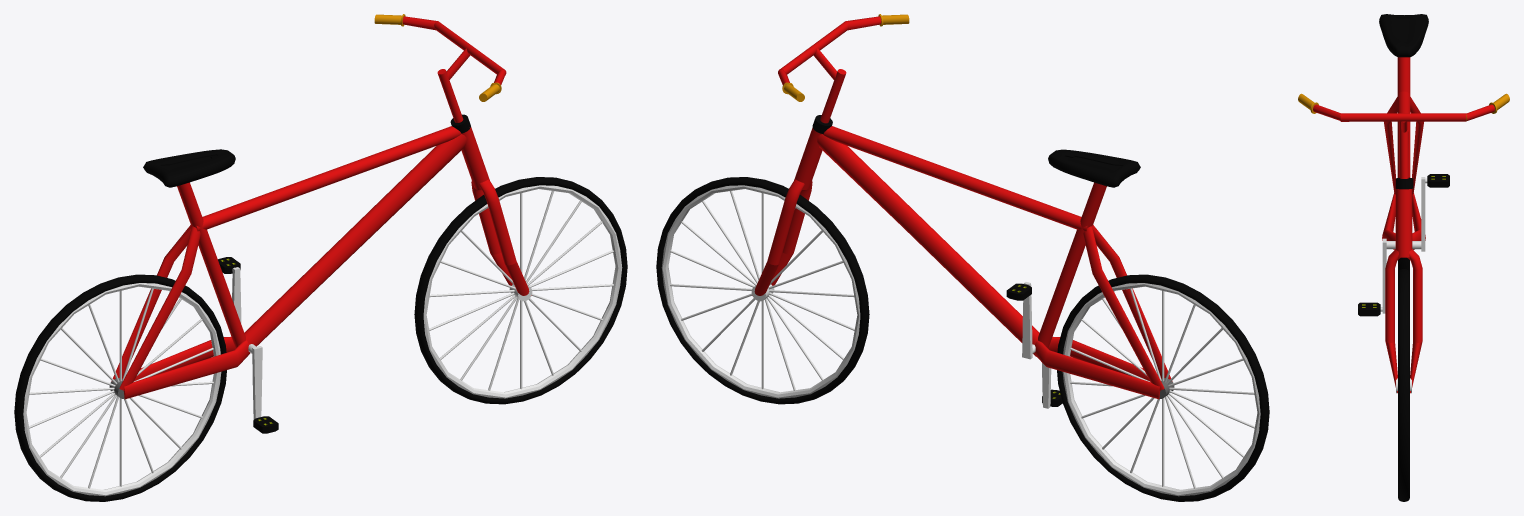
The model's file is bisikletfbxson.FBX.
3 views of the same model, side by side, from view 1: azimuth 30°, elevation 25°; view 2: azimuth 150°, elevation 25°; view 3: azimuth 270°, elevation 25° (orthographic). The views are drawn at different scales.
Parts seen in each view (by area): view 1: pasted__pTorus1 (×2), pasted__pCylinder5, pasted__pasted__pTorus1, pasted__pasted__pCylinder6, pTorus1, pCylinder6, pCylinder5, pasted__pCylinder3, pasted__pasted__pasted__pCylinder6, pCube1, polySurface8, pCylinder3 (+3 smaller); view 2: pasted__pTorus1 (×2), pasted__pCylinder5, pasted__pasted__pTorus1, pasted__pasted__pCylinder6, pTorus1, pCylinder6, pCylinder5, pasted__pCylinder3, pasted__pasted__pasted__pCylinder6, pCube1, polySurface82, polySurface8 (+2 smaller); view 3: pasted__pTorus1, pasted__pCylinder3, pCube1, pCylinder3, pasted__pasted__pasted__pCylinder4, pCylinder6, polySurface8, polySurface82, pCylinder5, pasted__pasted__pCylinder6, pasted__pasted__pasted__pCylinder6, pasted__pCylinder4 (+2 smaller).
Part boxes in pixels (<box>): pasted__pTorus1 (×2): <box>23,177,627,496</box>; pasted__pCylinder5: <box>244,134,466,346</box>; pasted__pasted__pTorus1: <box>14,274,226,501</box>; pasted__pasted__pCylinder6: <box>196,126,461,231</box>; pTorus1: <box>423,185,622,398</box>; pCylinder6: <box>111,225,200,390</box>; pCylinder5: <box>122,336,250,399</box>; pasted__pCylinder3: <box>471,179,531,295</box>; pasted__pasted__pasted__pCylinder6: <box>177,182,245,348</box>; pCube1: <box>143,149,235,187</box>; polySurface8: <box>374,14,505,101</box>; pCylinder3: <box>461,127,489,189</box>; pasted__pTorus1 (×2): <box>656,177,1260,496</box>; pasted__pCylinder5: <box>817,134,1039,356</box>; pasted__pasted__pTorus1: <box>1057,274,1269,501</box>; pasted__pasted__pCylinder6: <box>823,126,1087,231</box>; pTorus1: <box>661,185,860,398</box>; pCylinder6: <box>1083,225,1172,390</box>; pCylinder5: <box>1034,336,1161,399</box>; pasted__pCylinder3: <box>752,179,812,295</box>; pasted__pasted__pasted__pCylinder6: <box>1038,182,1106,348</box>; pCube1: <box>1048,149,1140,187</box>; polySurface82: <box>1006,282,1035,359</box>; polySurface8: <box>778,14,909,101</box>; pasted__pTorus1: <box>1398,269,1409,501</box>; pasted__pCylinder3: <box>1385,249,1422,393</box>; pCube1: <box>1379,14,1428,57</box>; pCylinder3: <box>1395,189,1412,257</box>; pasted__pasted__pasted__pCylinder4: <box>1340,113,1466,121</box>; pCylinder6: <box>1384,97,1423,194</box>; polySurface8: <box>1298,93,1509,121</box>; polySurface82: <box>1412,174,1449,251</box>; pCylinder5: <box>1382,193,1425,249</box>; pasted__pasted__pCylinder6: <box>1397,91,1410,177</box>; pasted__pasted__pasted__pCylinder6: <box>1397,57,1410,94</box>; pasted__pCylinder4: <box>1399,121,1408,178</box>.
Bounding box in the file's own units: 64.7 × 37.39 × 20.22.
